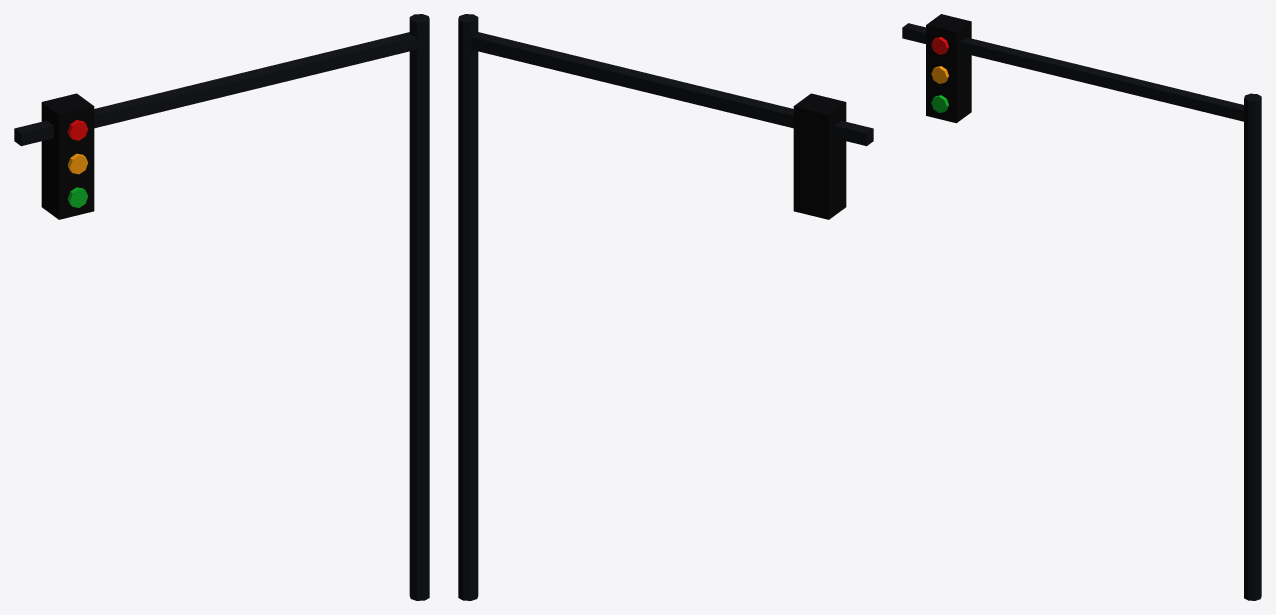
The model's file is traffic_light_arm.obj.
The picture shows the model from 3 angles, left to right: view 1: azimuth 30°, elevation 25°; view 2: azimuth 150°, elevation 25°; view 3: azimuth 330°, elevation 25°; orthographic projection. The views are drawn at different scales.
Visible parts, largest first — view 1: traffic_light_arm; view 2: traffic_light_arm; view 3: traffic_light_arm.
Boxes of the visible parts, x1,y1,x2,y2 form: traffic_light_arm: [14, 14, 429, 600]; traffic_light_arm: [458, 14, 873, 600]; traffic_light_arm: [902, 14, 1261, 600].
Bounding box in the file's own units: 4.09 × 5.5 × 0.345.
